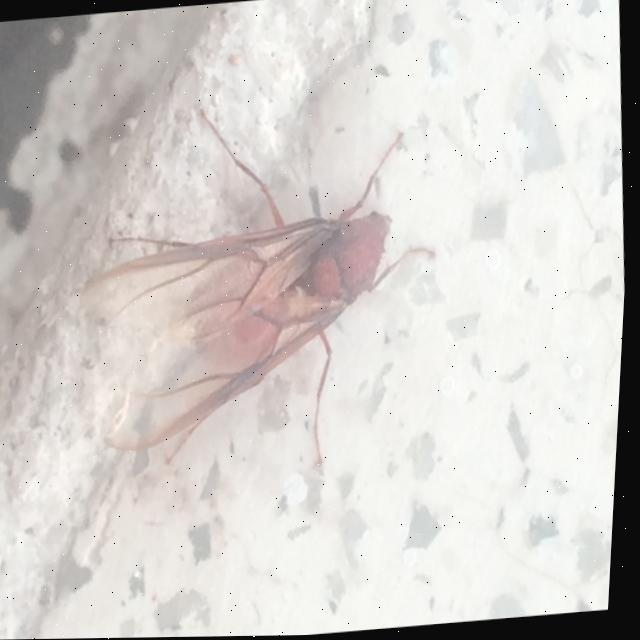Alive-Male-Alate: (63, 91, 459, 487)
